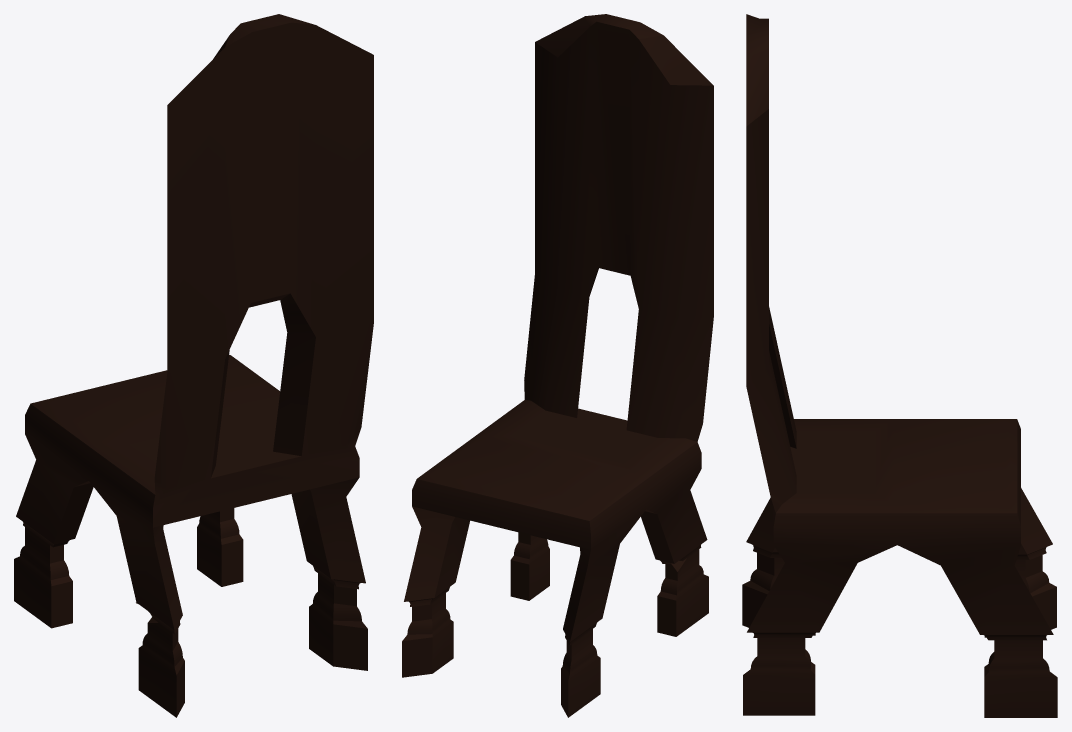
The model's file is Dinning Chair.fbx.
3 renders of one model, left to right at view 1: azimuth 30°, elevation 25°; view 2: azimuth 150°, elevation 25°; view 3: azimuth 270°, elevation 25°, orthographic. The views are drawn at different scales.
Visible parts, largest first — view 1: Box057; view 2: Box057; view 3: Box057.
Boxes of the visible parts, x1,y1,x2,y2 form: Box057: (14, 14, 373, 717); Box057: (402, 14, 713, 717); Box057: (742, 14, 1057, 717).
Size of the model in its own units: 27.3 by 84.22 by 37.27.
